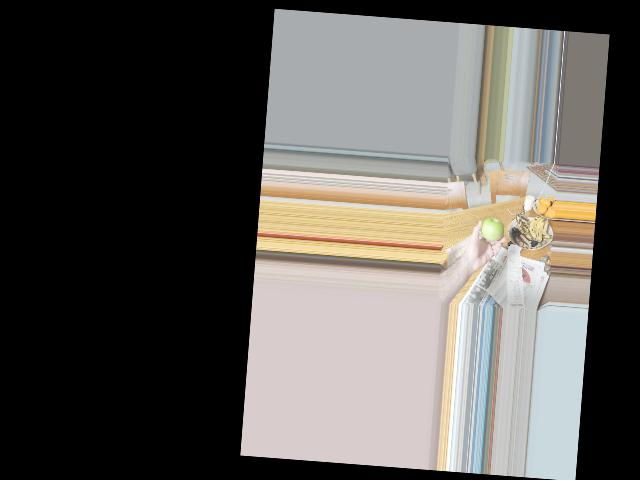apple: (480, 216, 505, 240)
